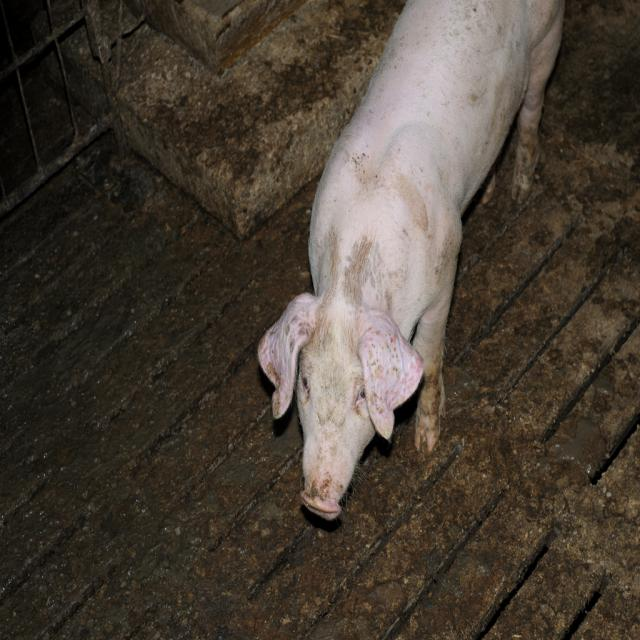Pig: (256, 0, 567, 522)
